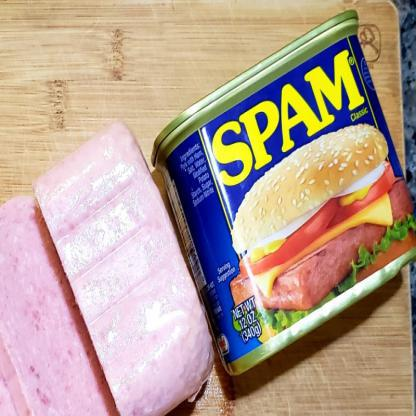spam: (168, 58, 416, 350), (23, 143, 200, 415)
